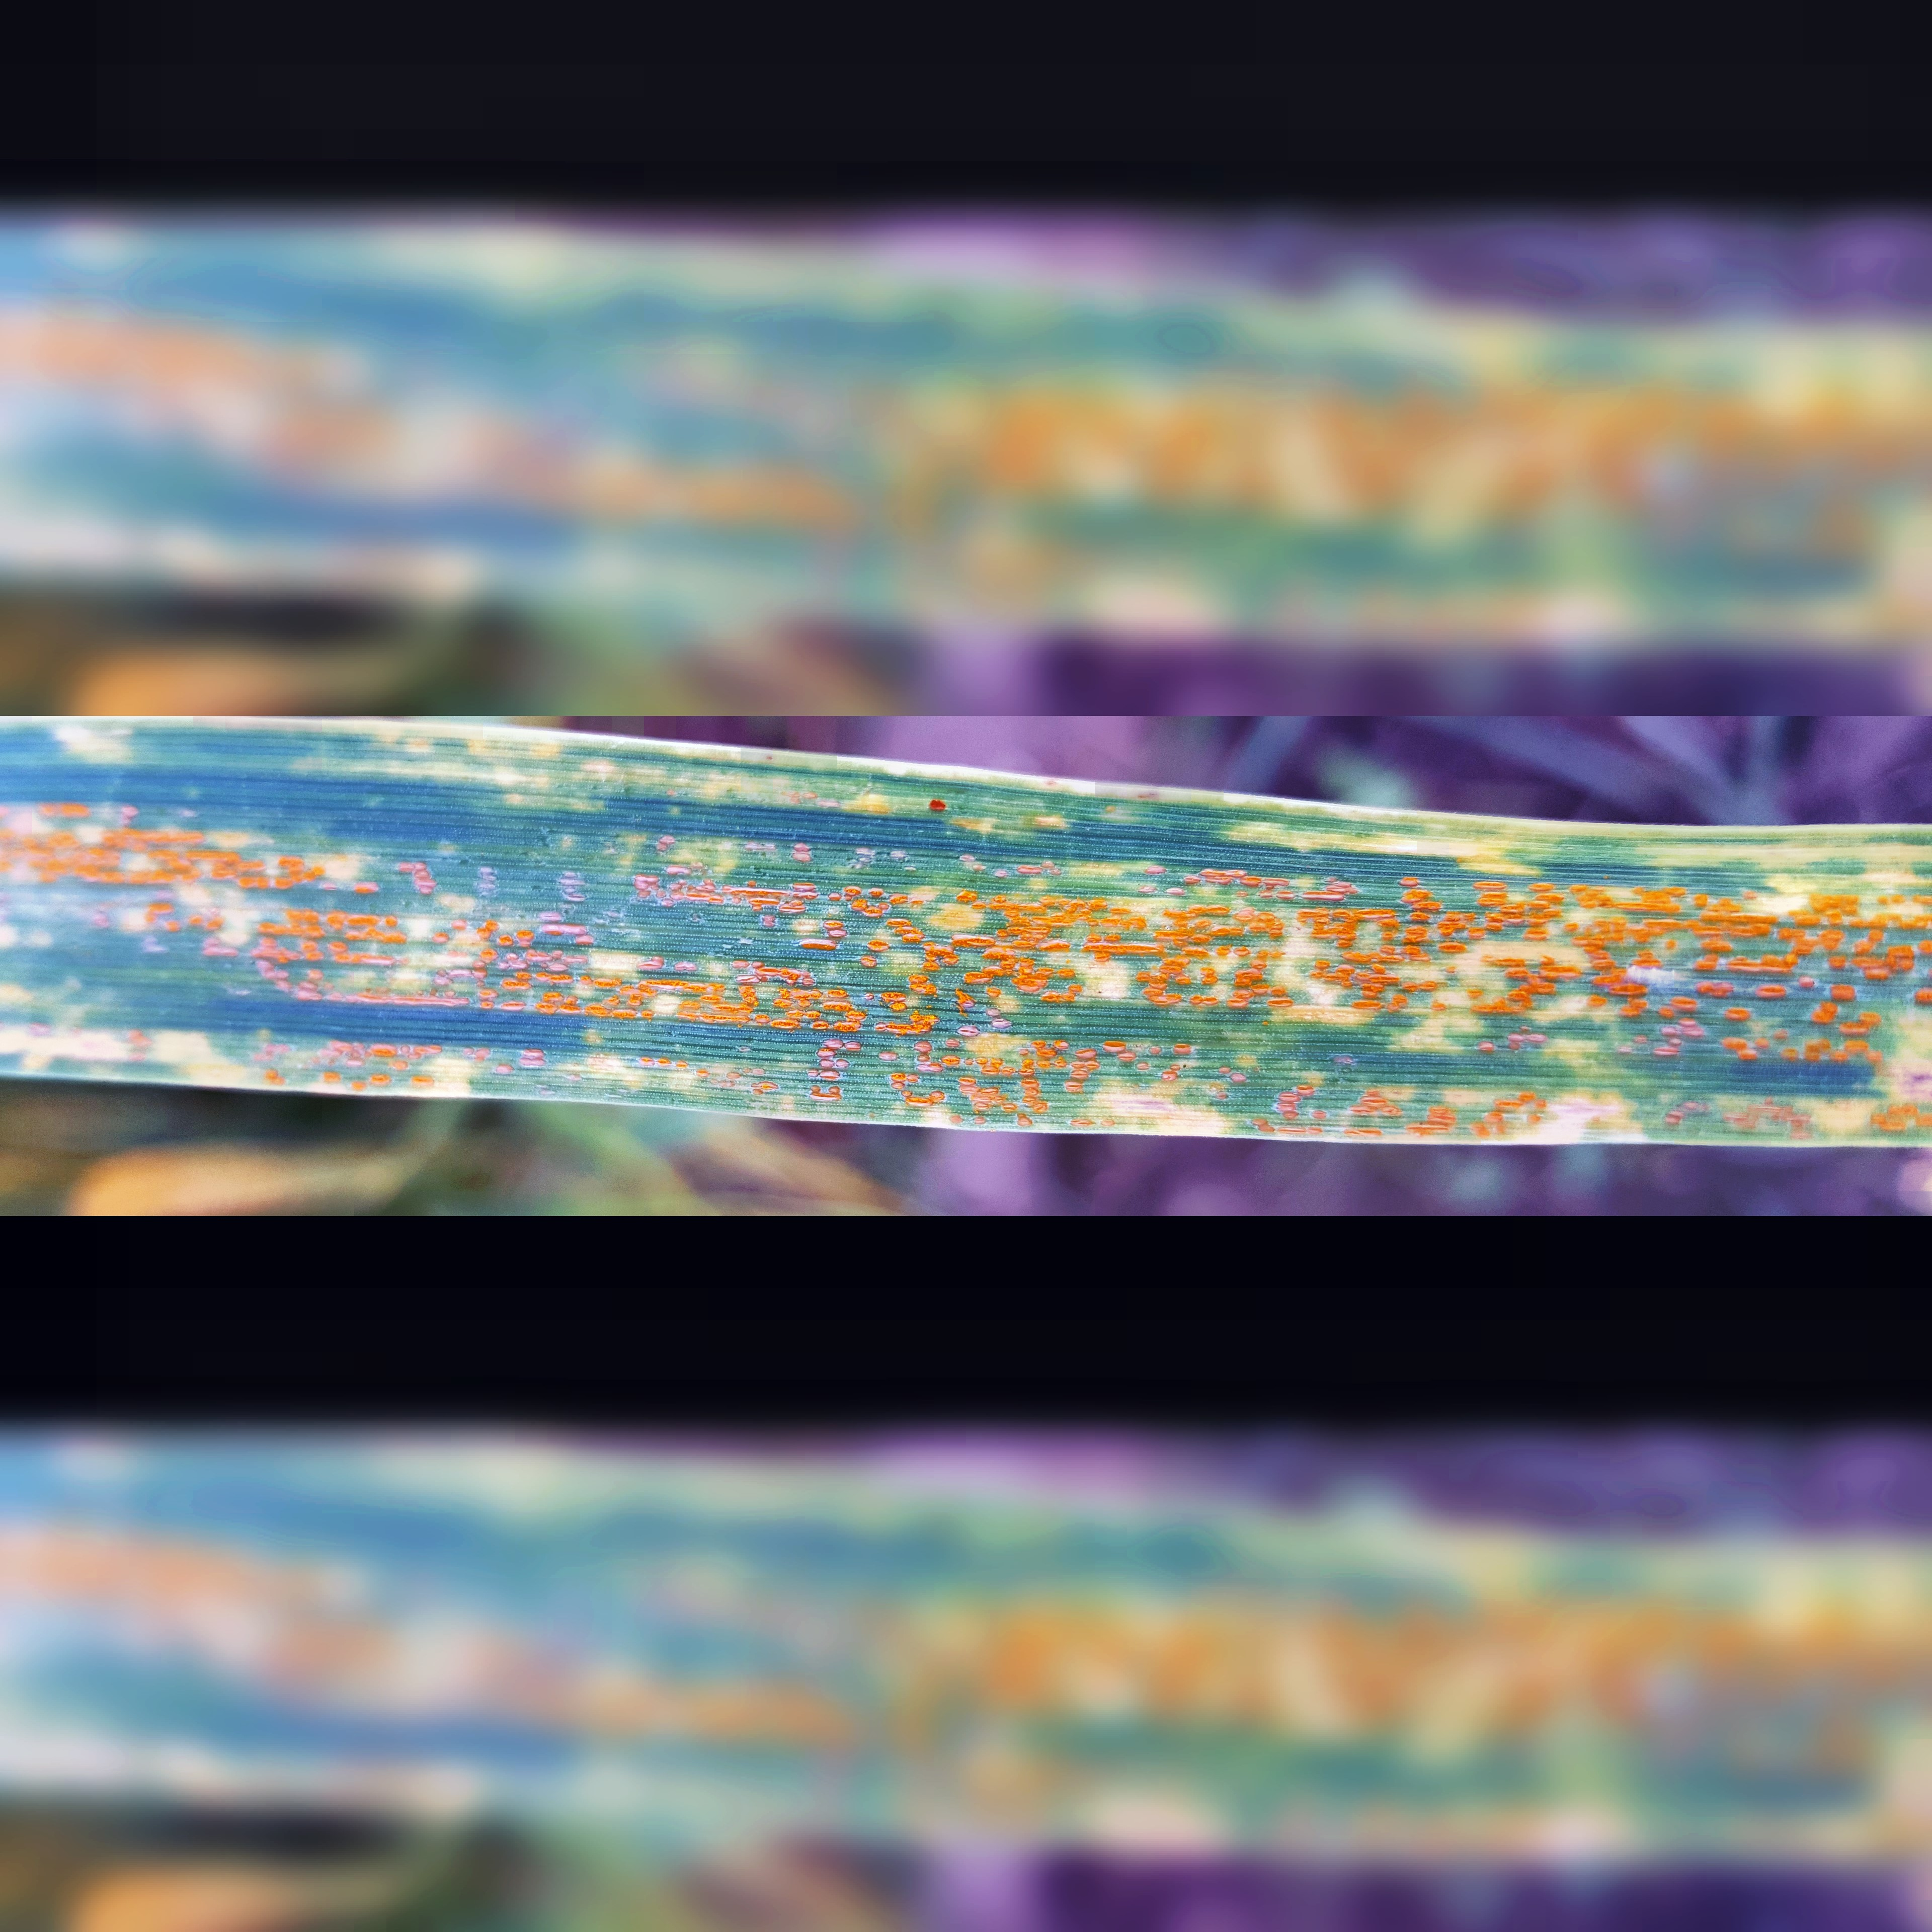Leaf Rust: (57, 732, 1847, 1177)
